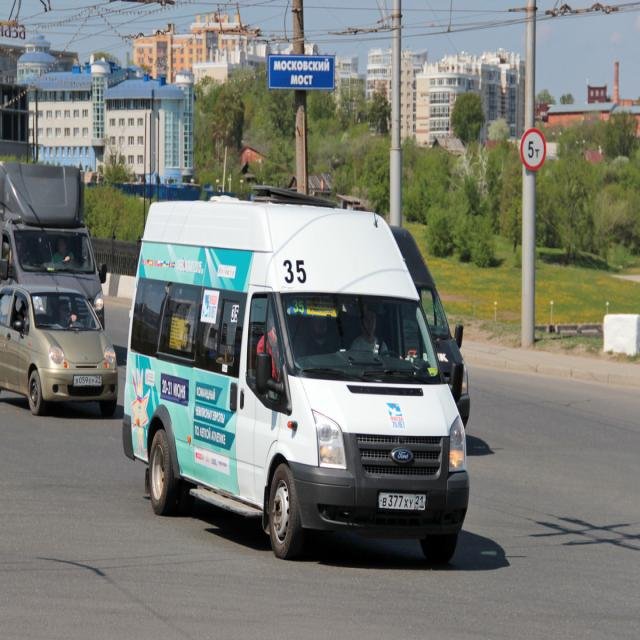number-of-bus: (282, 257, 310, 287), (291, 298, 307, 315)
